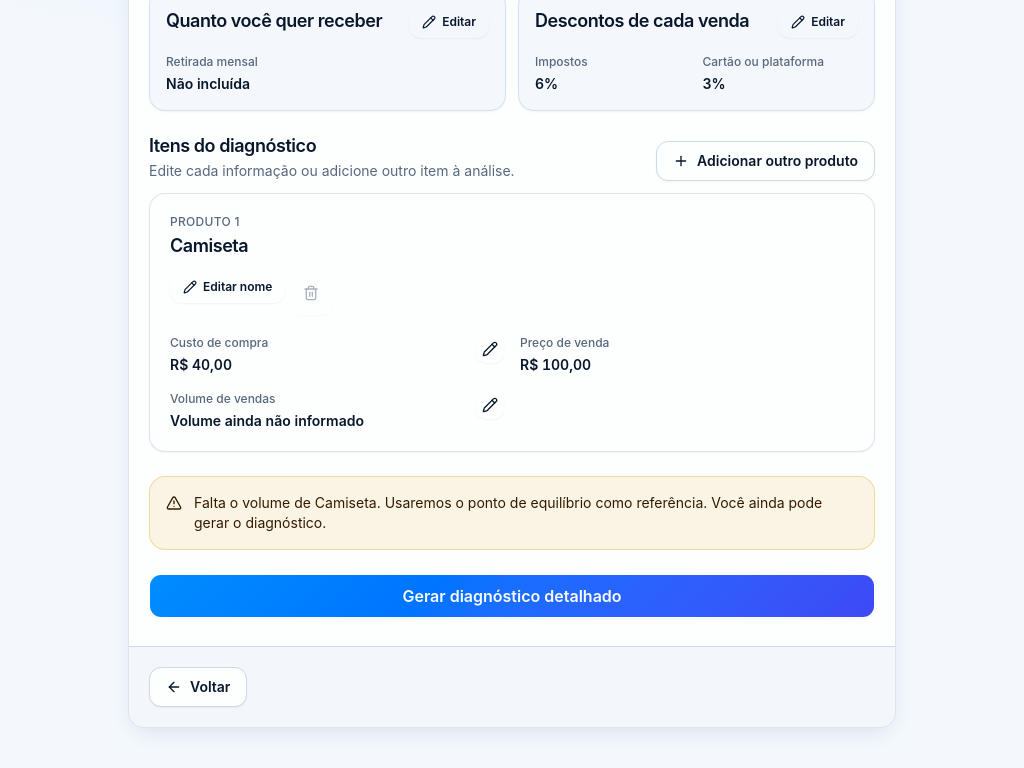
Test: DetailedDiagnosisWizard › routes a server field error to its phase and focuses the input
(page scrolled)
Click the button "Gerar diagnóstico detalhado".
click(512, 596)  # box [149,574,875,618]
(page scrolled)
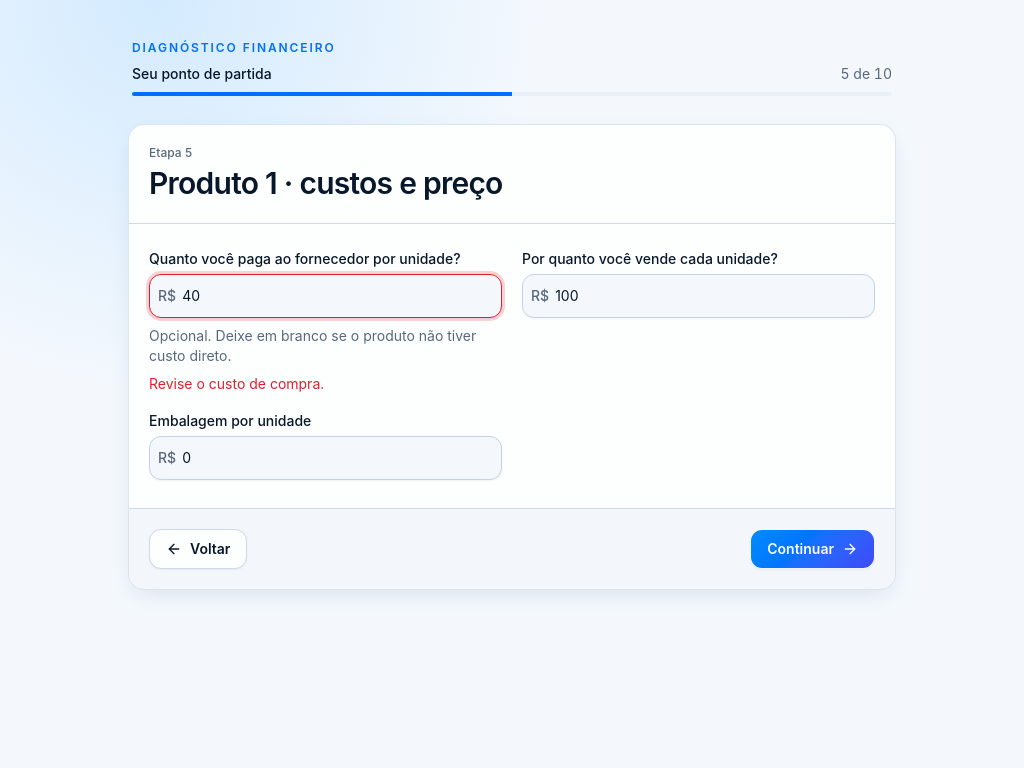
Expected: the message reads "Revise o custo de compra.", [149,374,324,392]
